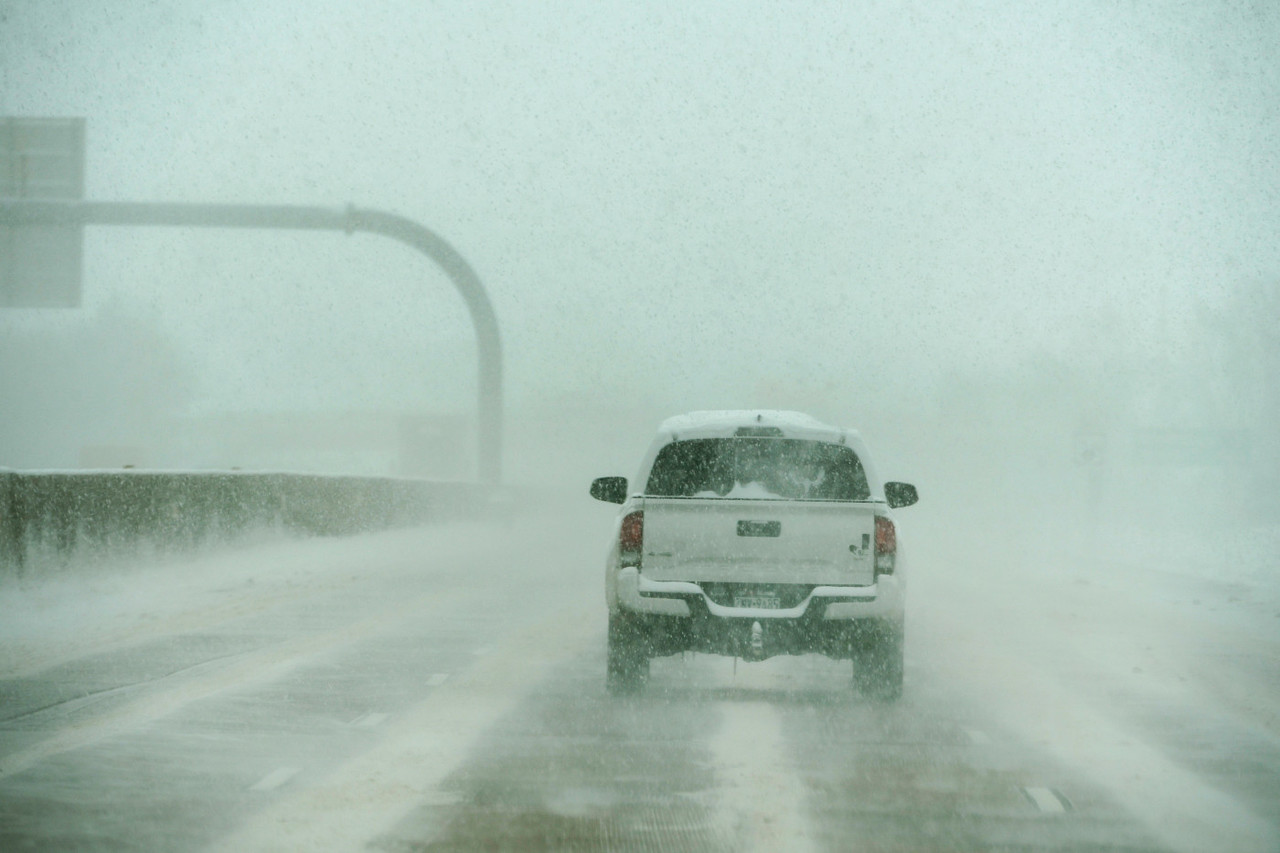car: (597, 408, 908, 698)
